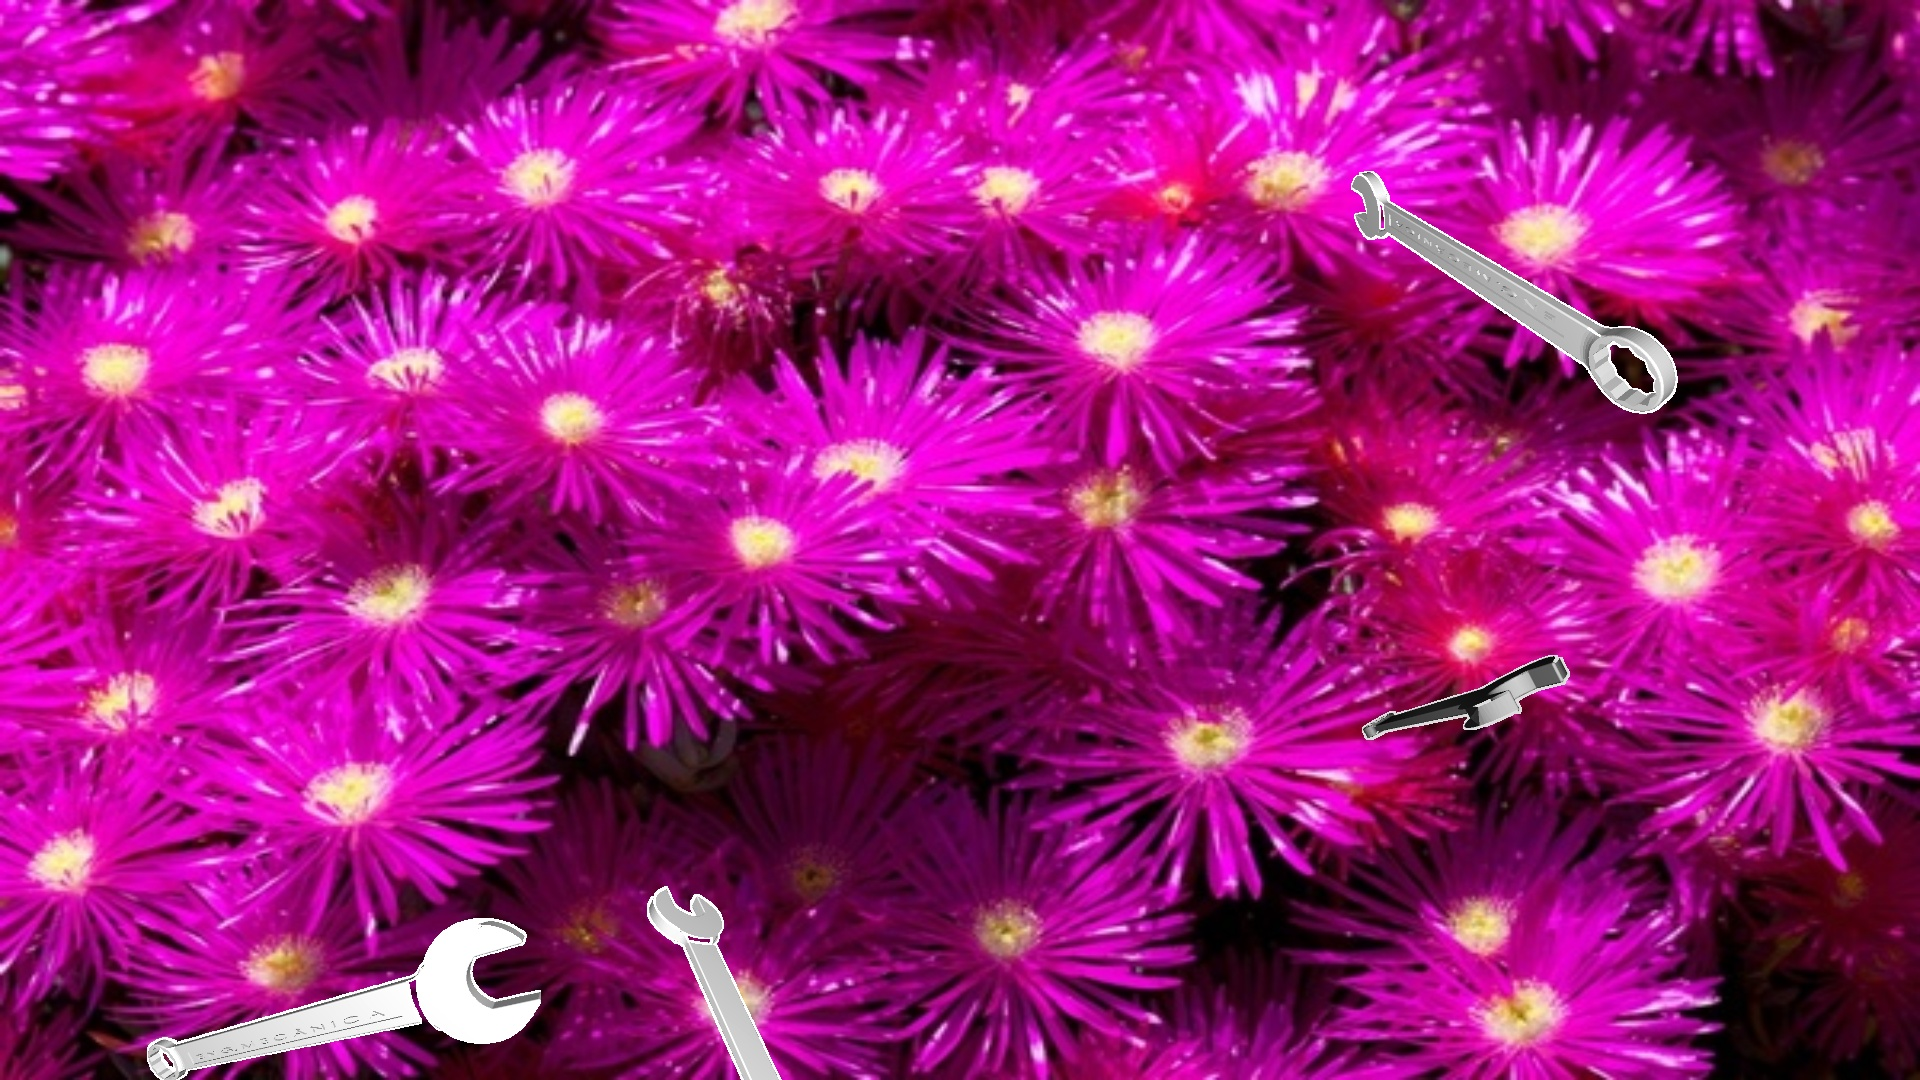Mixed Key: (1352, 171, 1677, 413), (146, 918, 541, 1079), (647, 886, 781, 1079), (1362, 655, 1569, 738)
